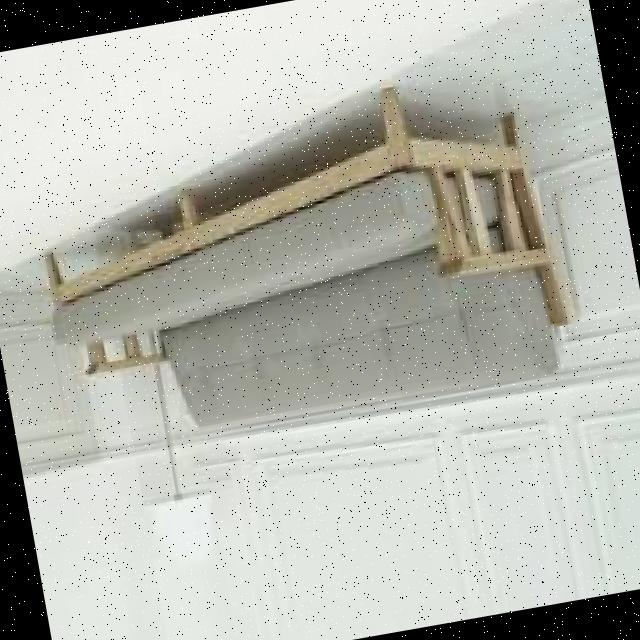Sofa: (4, 41, 618, 482)
